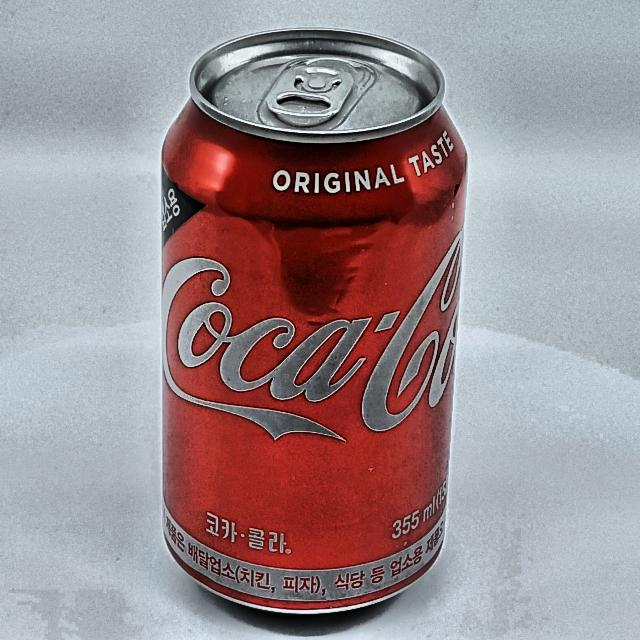cocacola: (161, 29, 466, 614)
